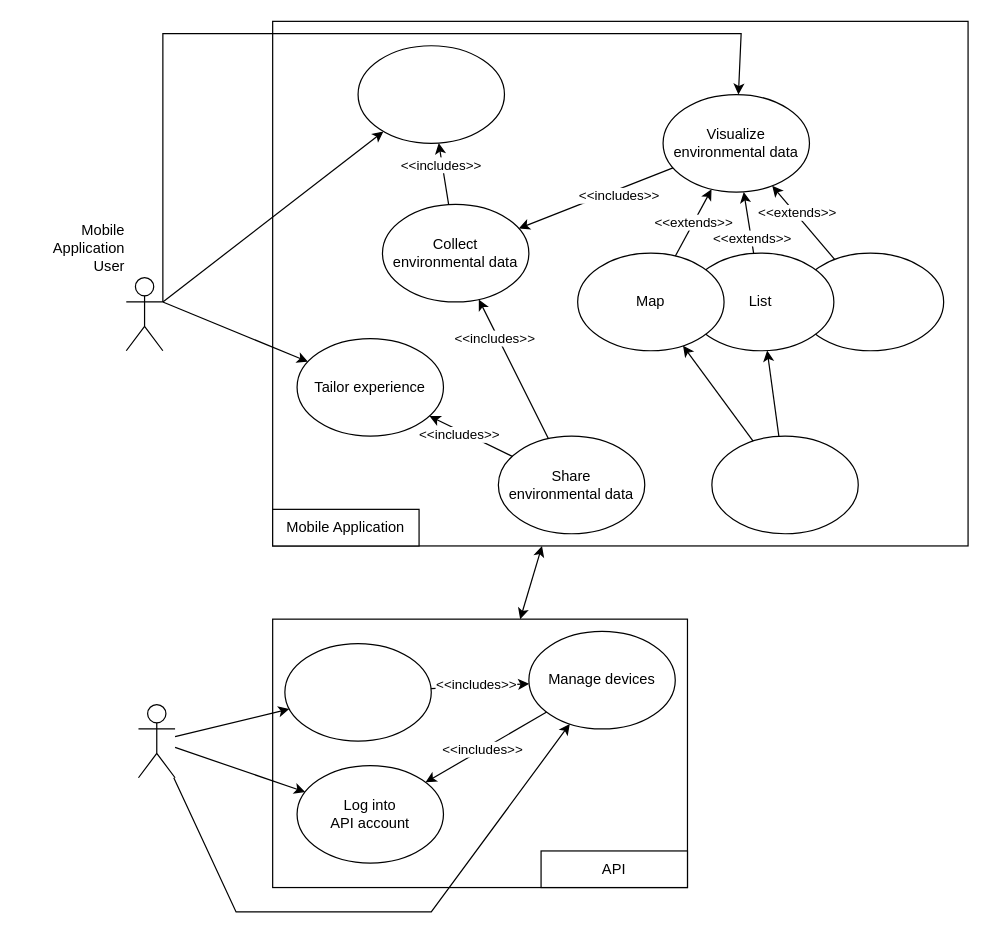
This 989x943 diagram has some shape labels left out. The shapes that lost their labels are listed below. From the top down, each one's centre as x and y in pixels, then its label:
pixel 430 94: Connect with a LogAir device
pixel 870 301: Graph
pixel 784 484: Retrieve additional environmental data
pixel 357 691: Query environmental data
pixel 156 740: Data Observer / Device Manager / Administrator
